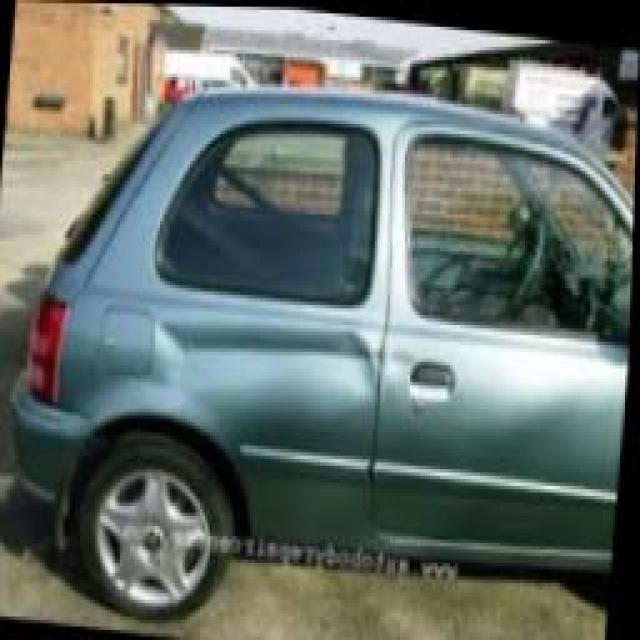Fender: (69, 273, 385, 550)
